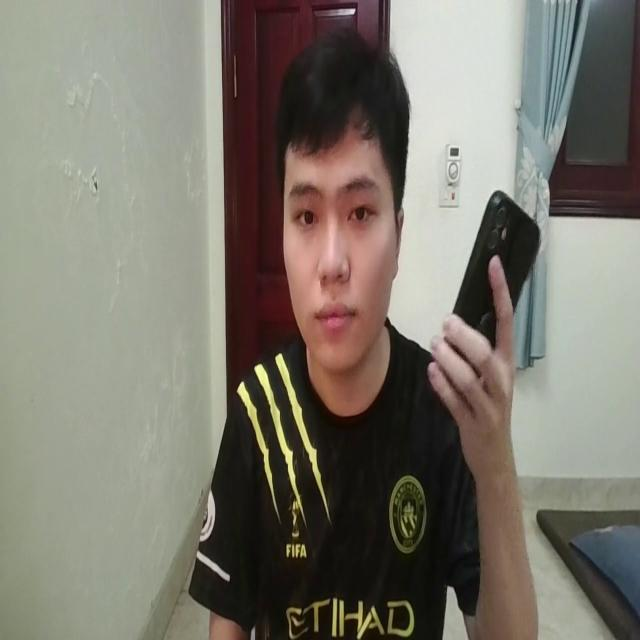phone: (445, 186, 543, 377)
student: (188, 28, 538, 640)
